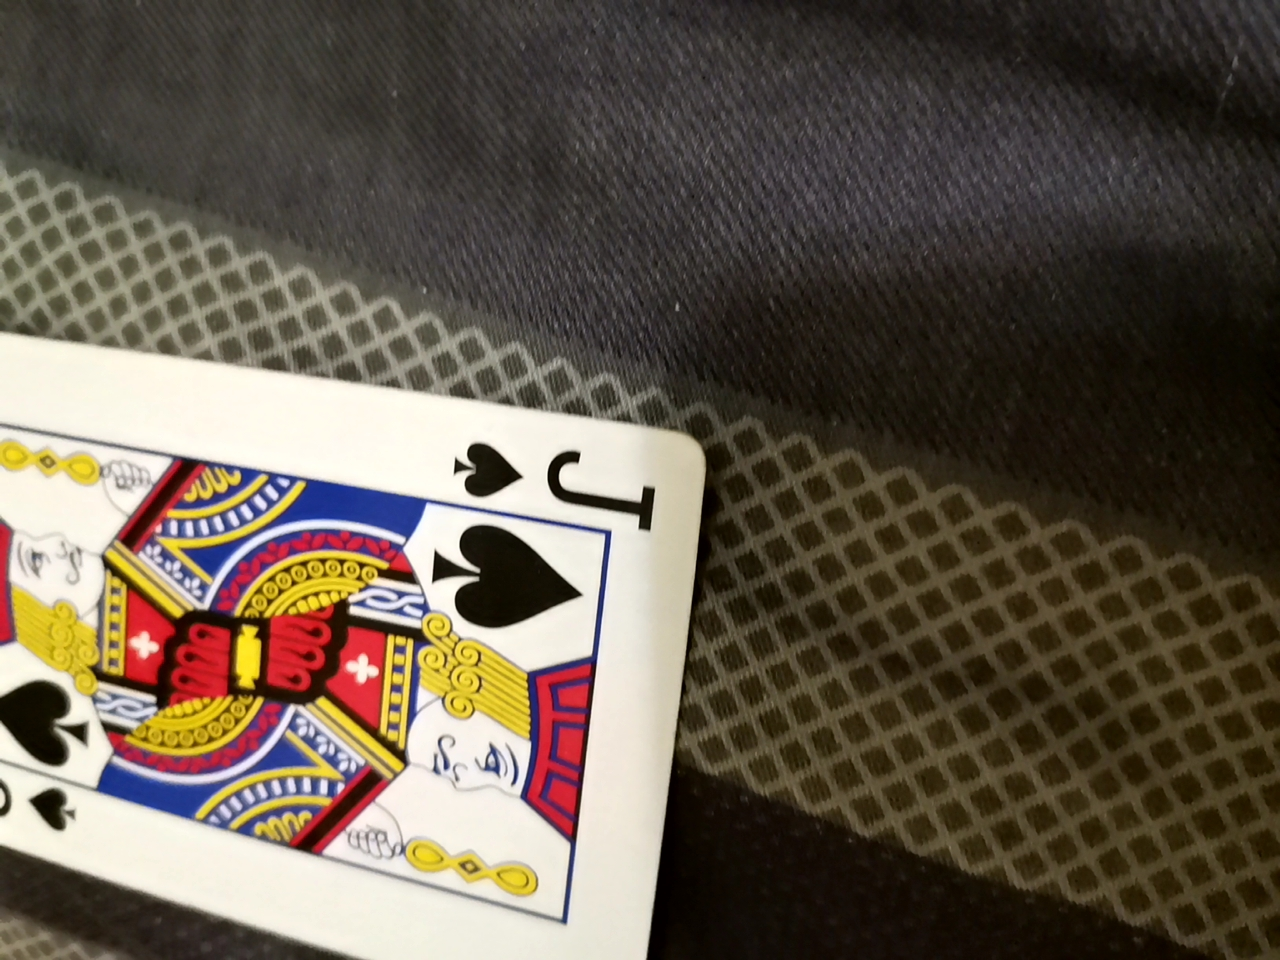ht j: (10, 288, 689, 950)
